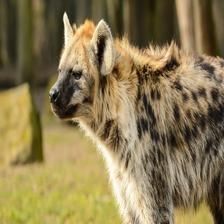hyena: (49, 10, 224, 224)
